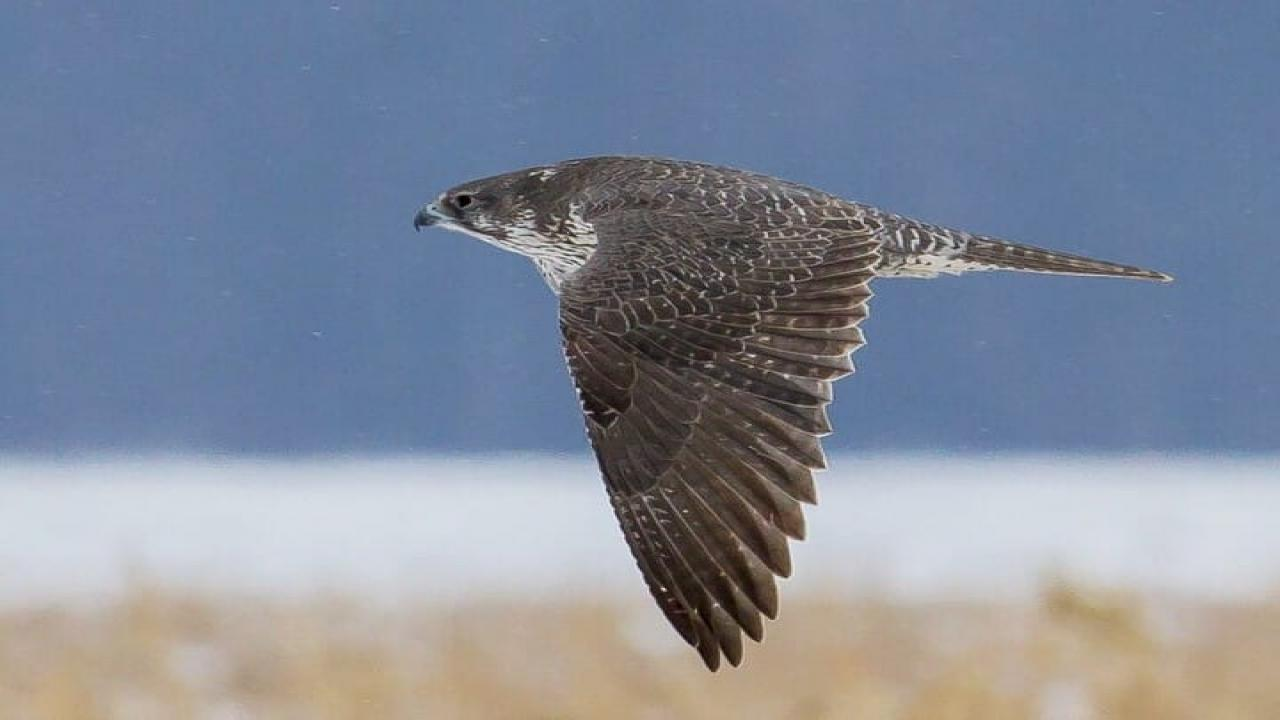Bird: (398, 140, 1189, 684)
